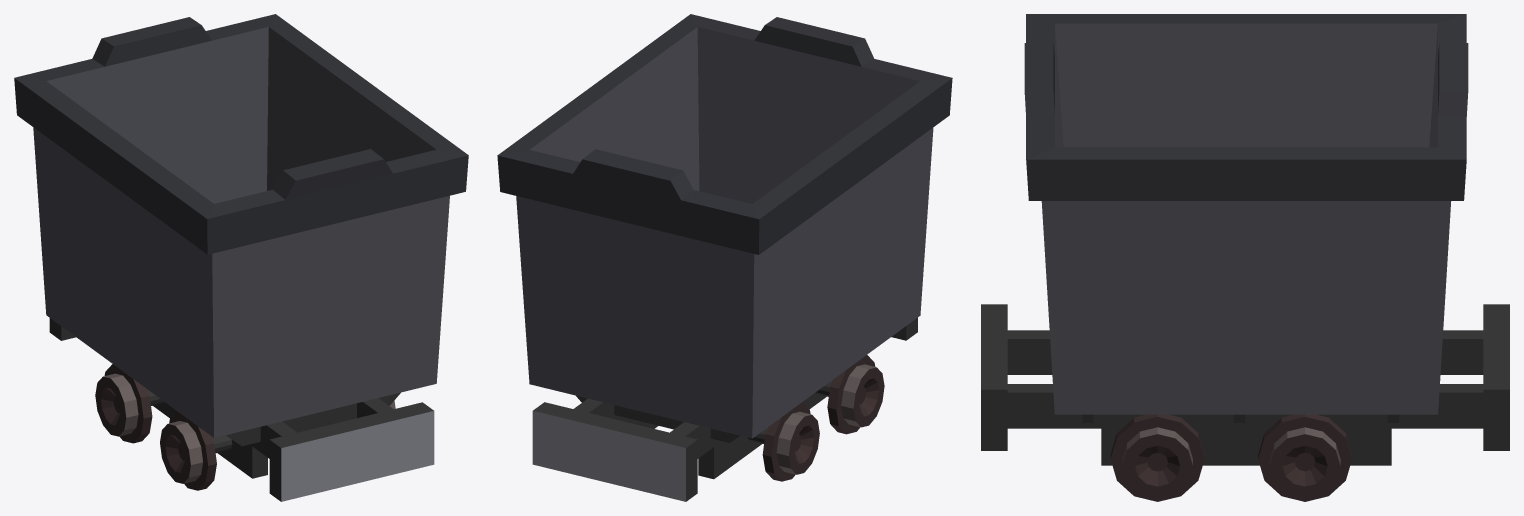
The model's file is Mines Cart Empty.glb.
3 views of the same model, side by side, from view 1: azimuth 30°, elevation 25°; view 2: azimuth 150°, elevation 25°; view 3: azimuth 270°, elevation 25° (orthographic). The views are drawn at different scales.
Visible parts, largest first — view 1: Mines Cart Empty; view 2: Mines Cart Empty; view 3: Mines Cart Empty.
Part boxes in pixels (x1,y1,x2,y2): Mines Cart Empty: (14,14,468,501); Mines Cart Empty: (497,14,952,501); Mines Cart Empty: (981,14,1509,501).
Size of what is drawn, in the model's own units: 0.8355 by 1.04 by 1.28.
1 material, 1 textured.
